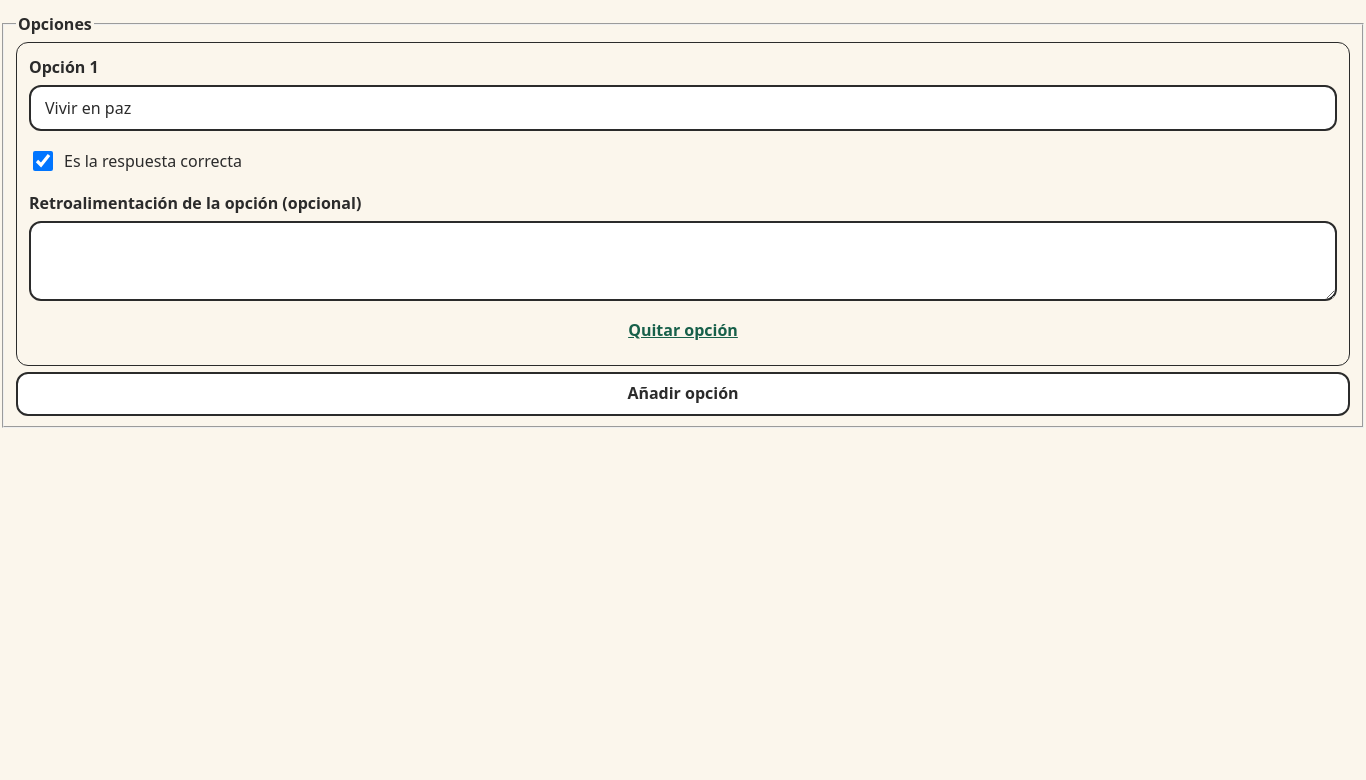
it: OpcionMultipleFields › añadir una opción produce un objeto con dos opciones
What coordinates should you click on to do the following:
click the button "Añadir opción"
I would click on:
 (683, 394)
Its box is [16, 372, 1350, 416].
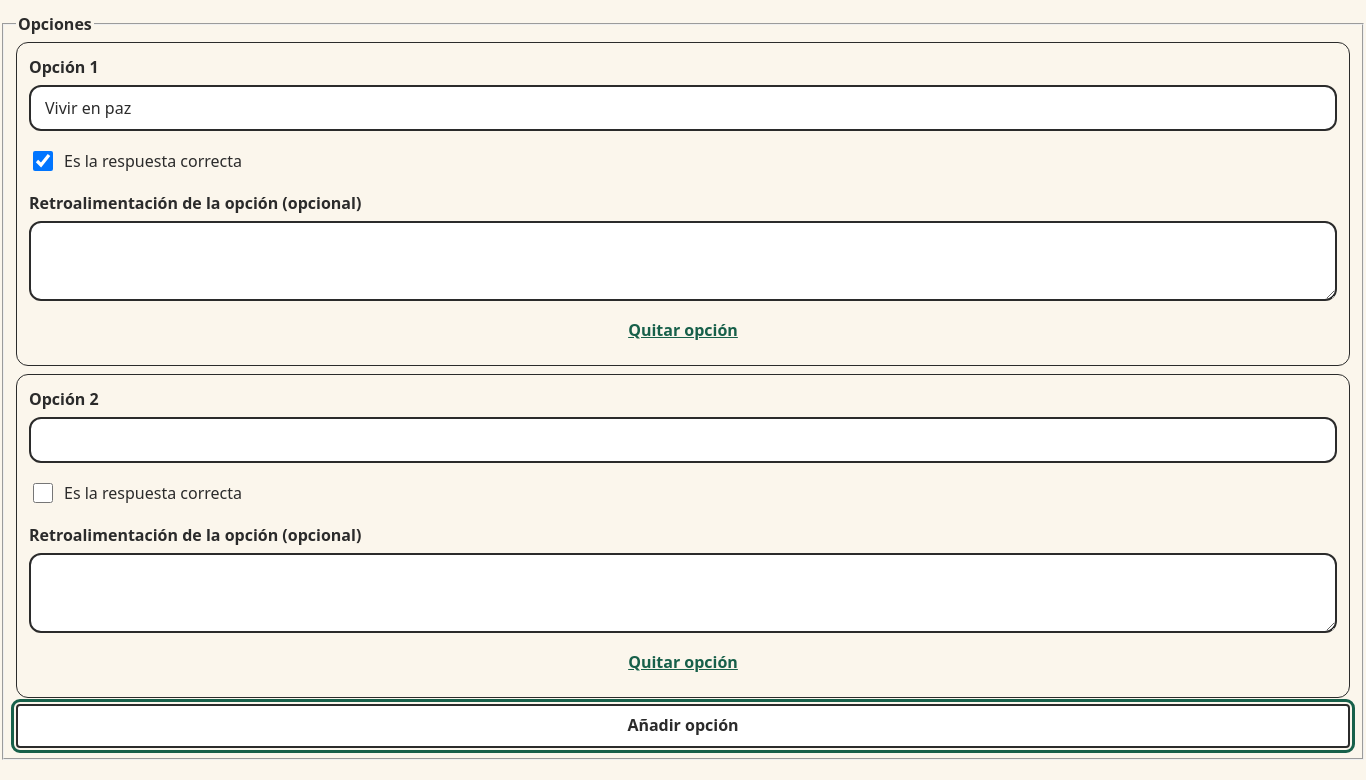
Check: the field labelled "Opción 1" is shown, box [29, 85, 1337, 131]
Check: the field labelled "Opción 2" is shown, box [29, 417, 1337, 463]
